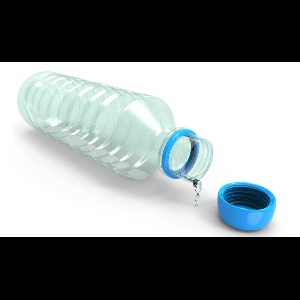emptybottle: (17, 71, 213, 185)
